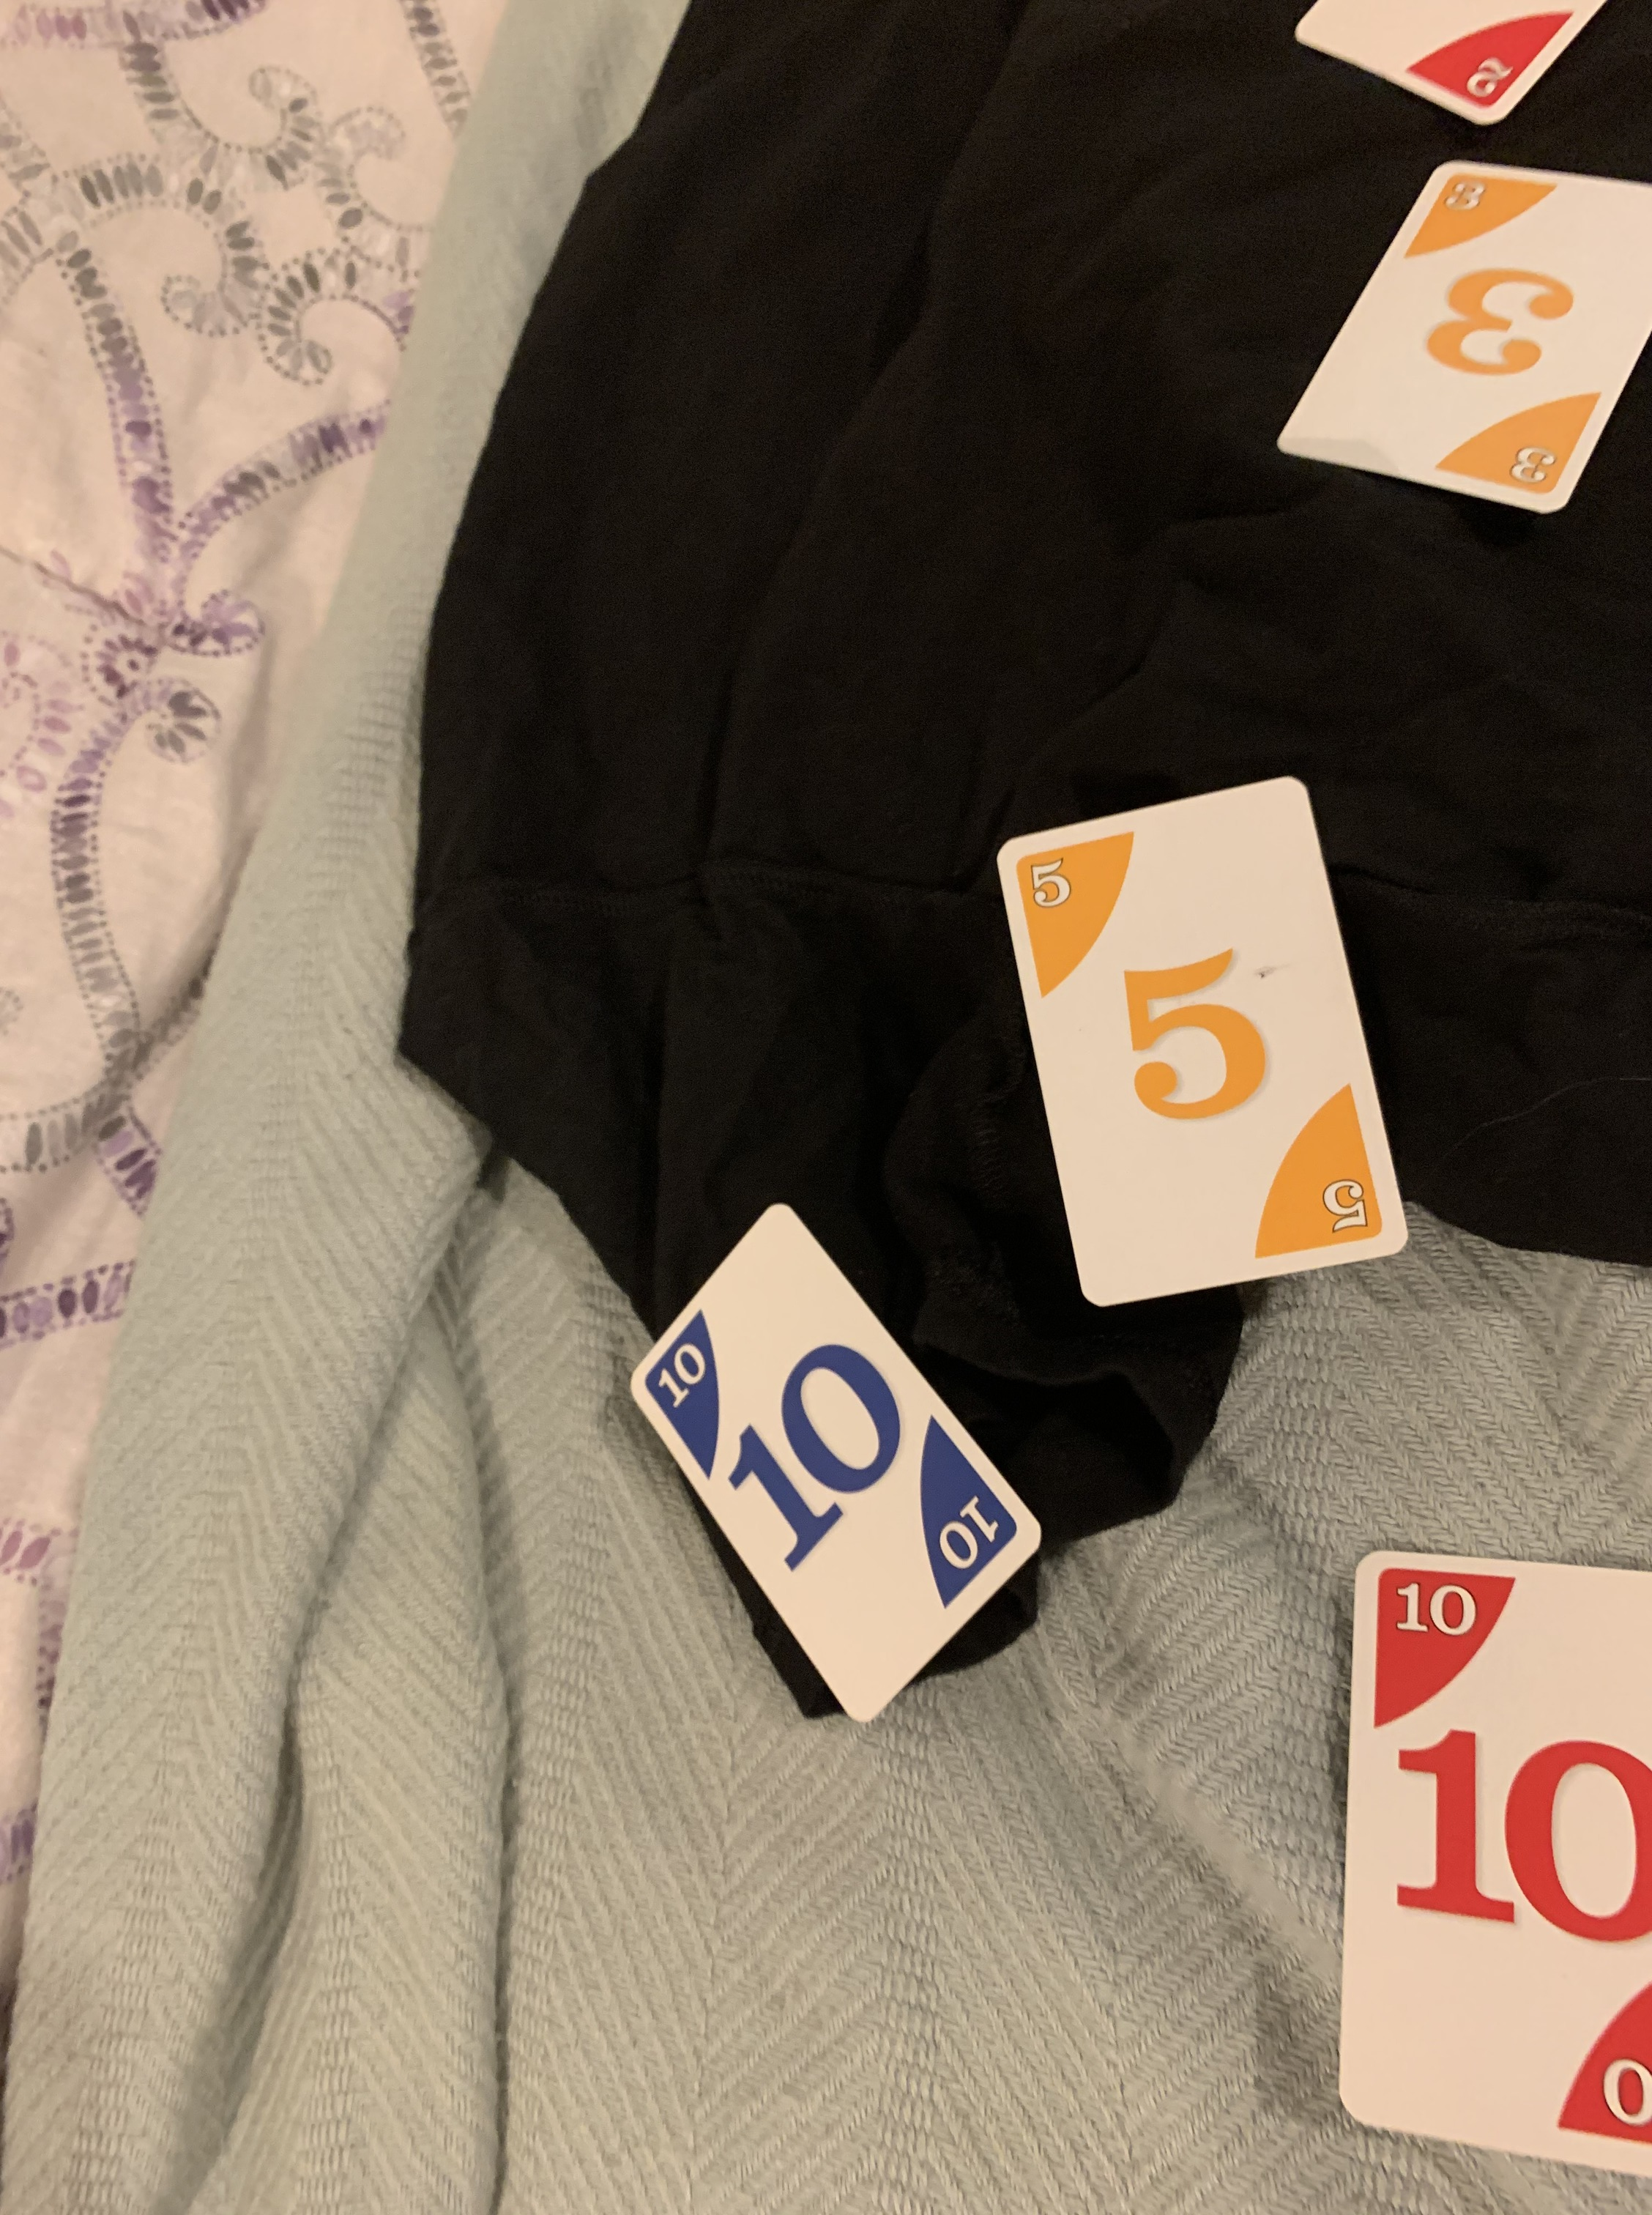five: (972, 743, 1421, 1328)
ten: (602, 1194, 1057, 1750), (1305, 1535, 1652, 2201)
three: (1275, 144, 1652, 529)
